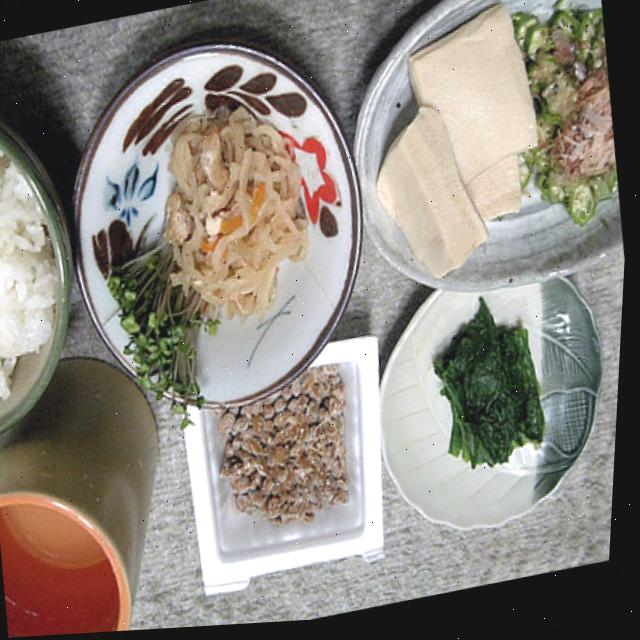米饭主食: (0, 82, 92, 450)
